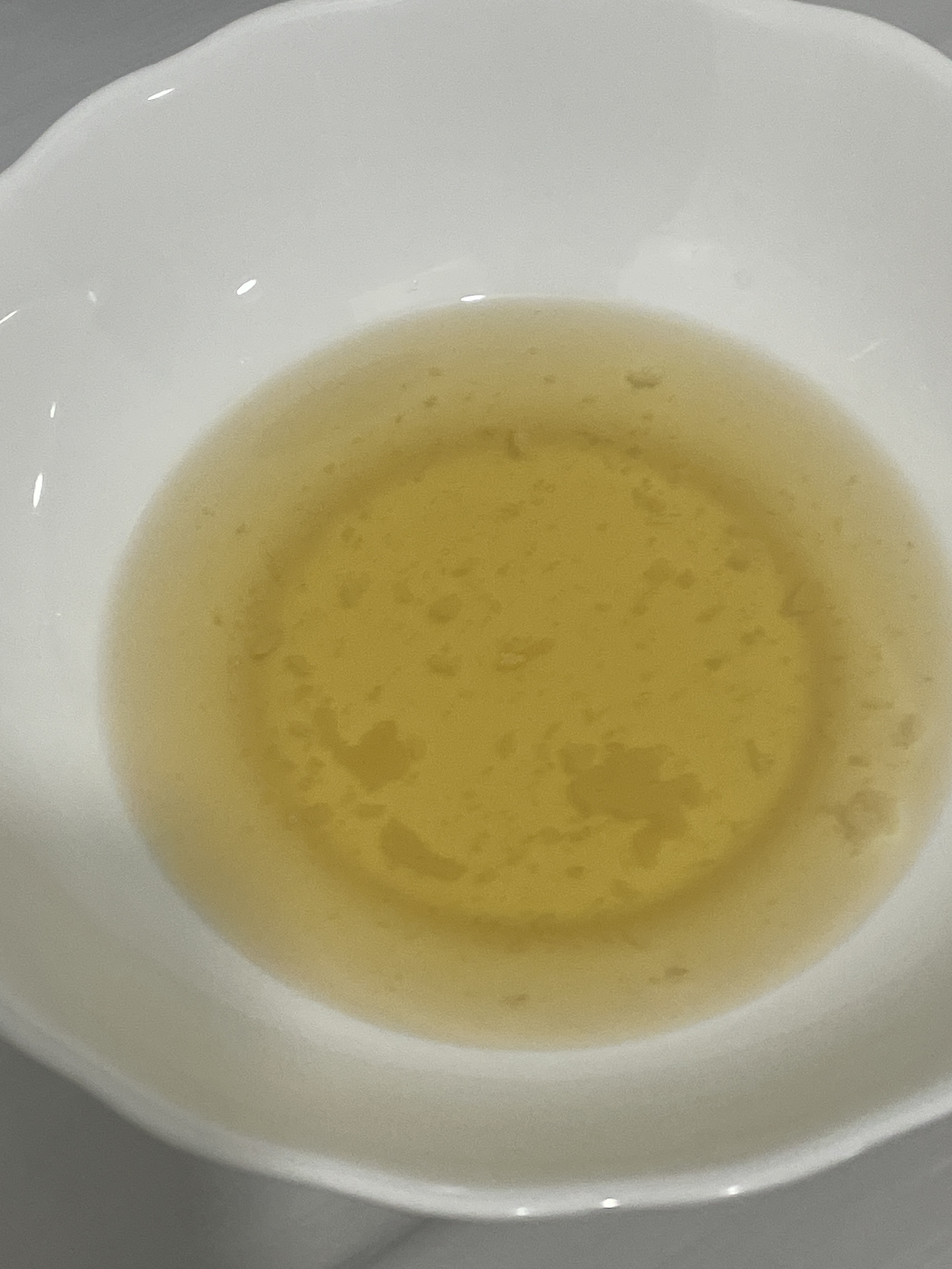reusable: (113, 305, 952, 1042)
